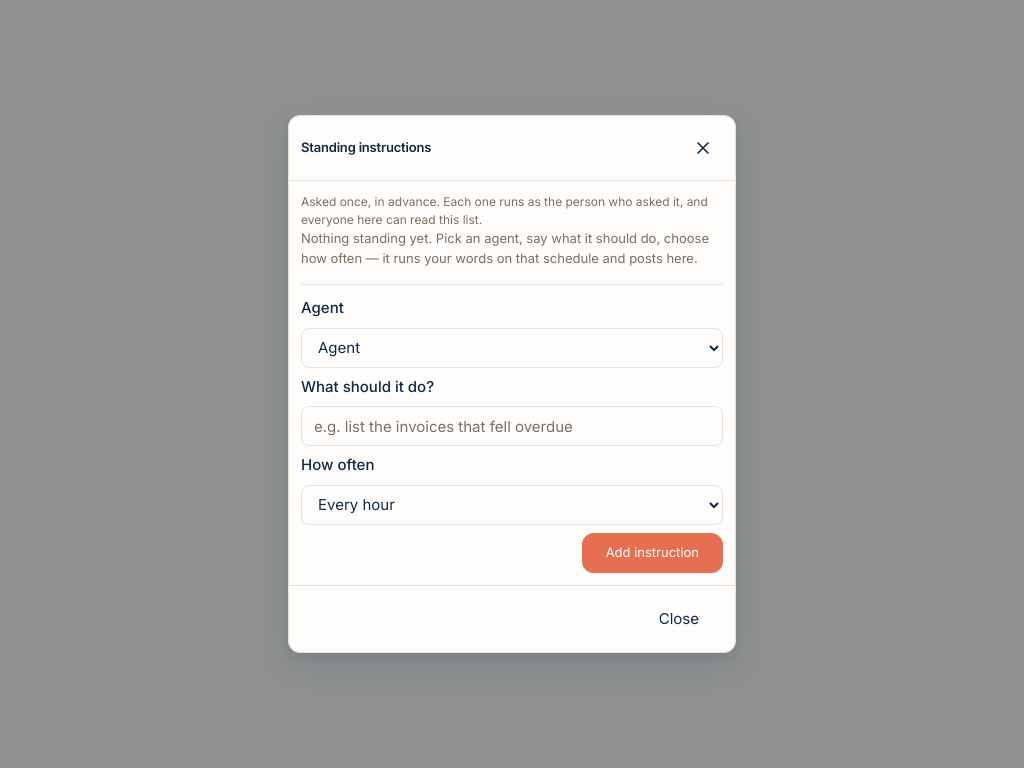
a refusal reaches the user in the server's own words
Expected: the text "Nothing standing yet. Pick an agent, say what it should do, choose how often — it runs your words on that schedule and p" is shown, [301, 230, 709, 266]
Select "@billing" in the dropdown labelled "Agent". click: coordinates (512, 348)
box: [301, 328, 723, 368]
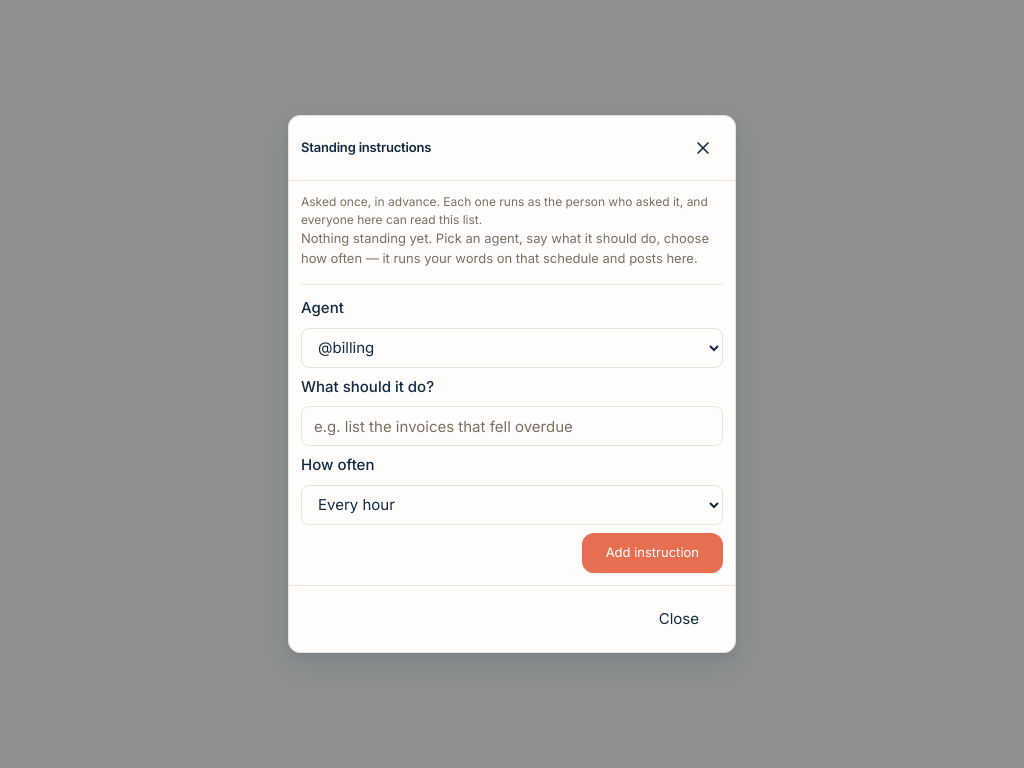
Type "one instruction too many" into the field labelled "What should it do?". click: coordinates (512, 426)
box: [301, 406, 723, 446]
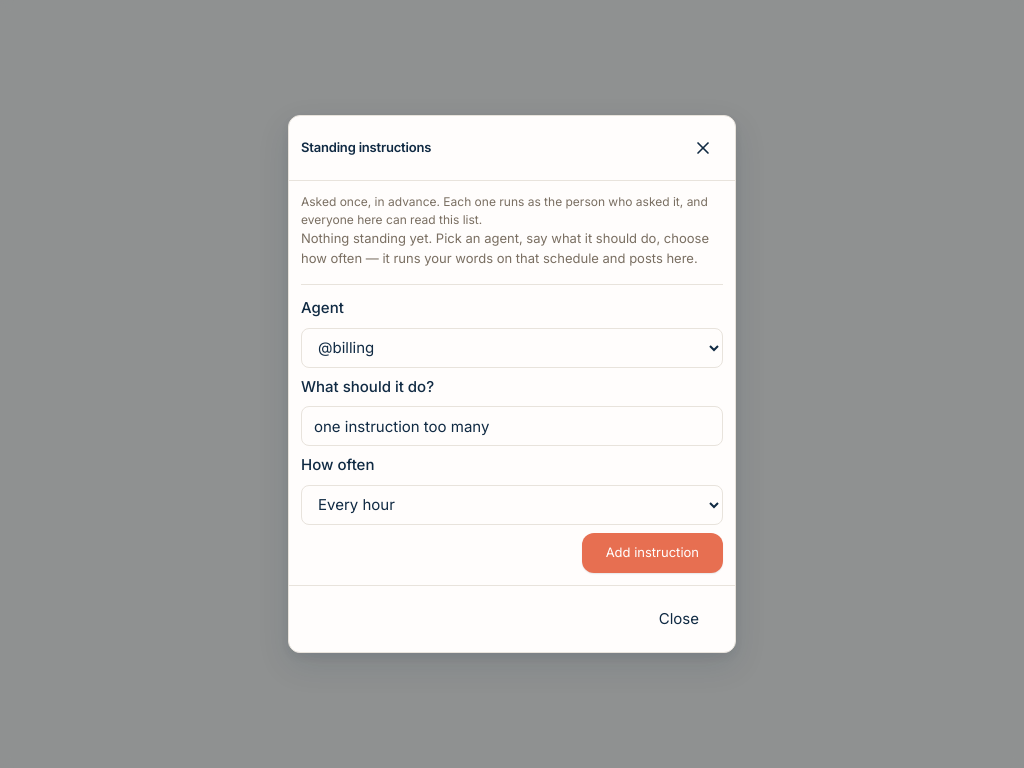
Click the button "Add instruction". click: coordinates (652, 552)
box: [582, 532, 723, 572]
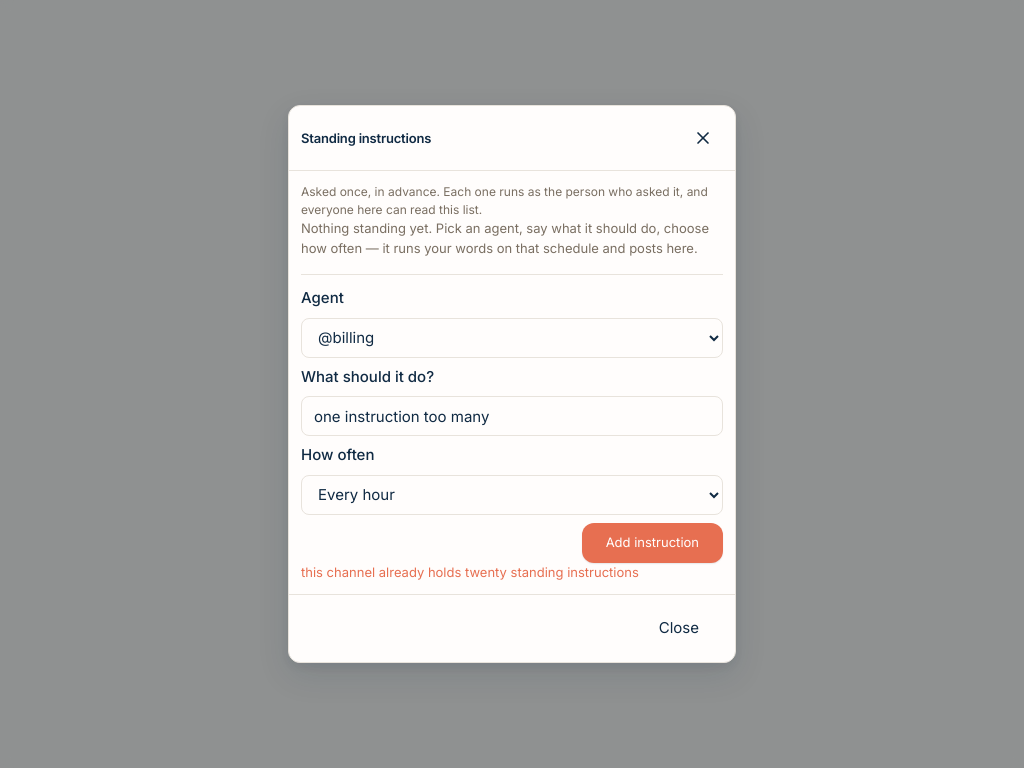
Now the message shows "twenty standing instructions", box [301, 564, 639, 580]
